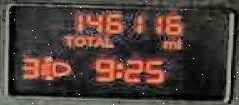1: (70, 12, 84, 31), (130, 13, 144, 32), (151, 15, 162, 34)
2: (121, 57, 142, 82)
3: (17, 56, 37, 77)
4: (84, 13, 102, 31)
5: (142, 58, 164, 82)
6: (102, 12, 122, 32), (162, 14, 182, 34)
9: (91, 57, 112, 81)
X: (161, 39, 176, 49), (61, 33, 72, 46), (72, 35, 84, 46), (102, 34, 112, 47), (114, 61, 120, 77), (84, 35, 92, 46), (94, 35, 102, 46), (175, 37, 179, 48)
